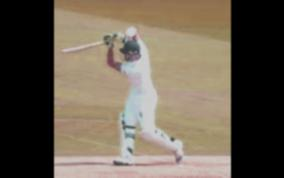batsman: (59, 12, 207, 170)
